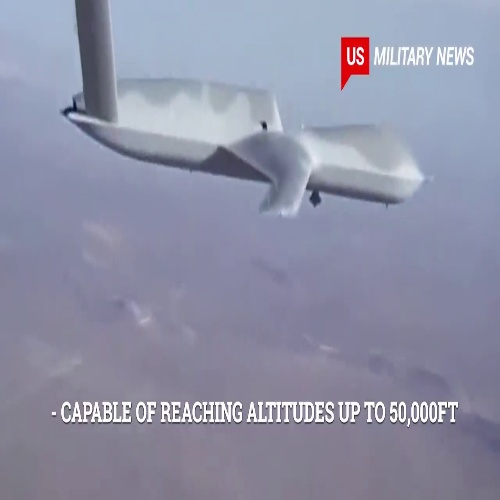uav: (55, 7, 437, 219)
